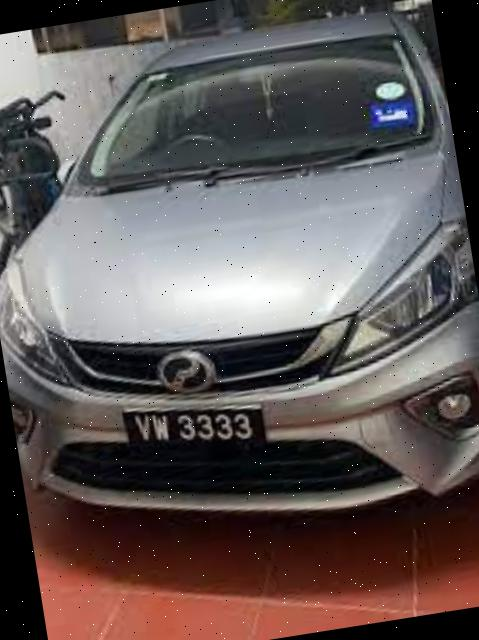License_Plate: (119, 388, 268, 480)
car: (1, 1, 479, 561)
